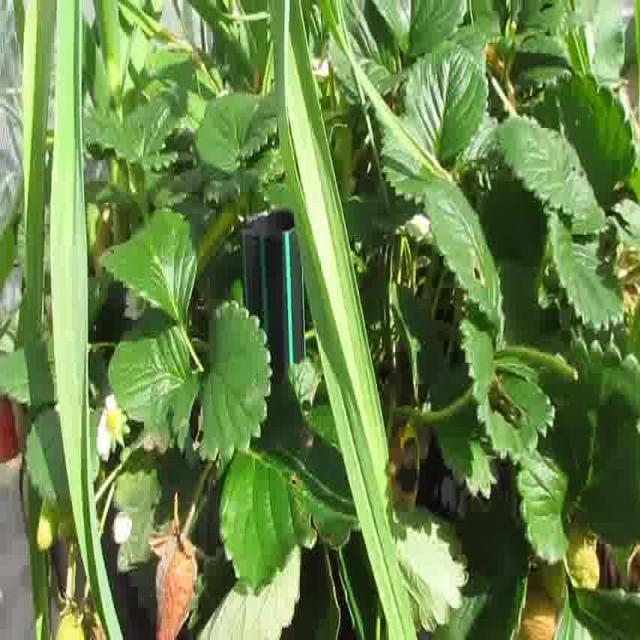Fruta sana: (538, 528, 601, 618), (512, 571, 562, 640), (36, 493, 68, 551), (106, 412, 118, 432)
Moho gris: (154, 534, 198, 639), (54, 605, 110, 640)
